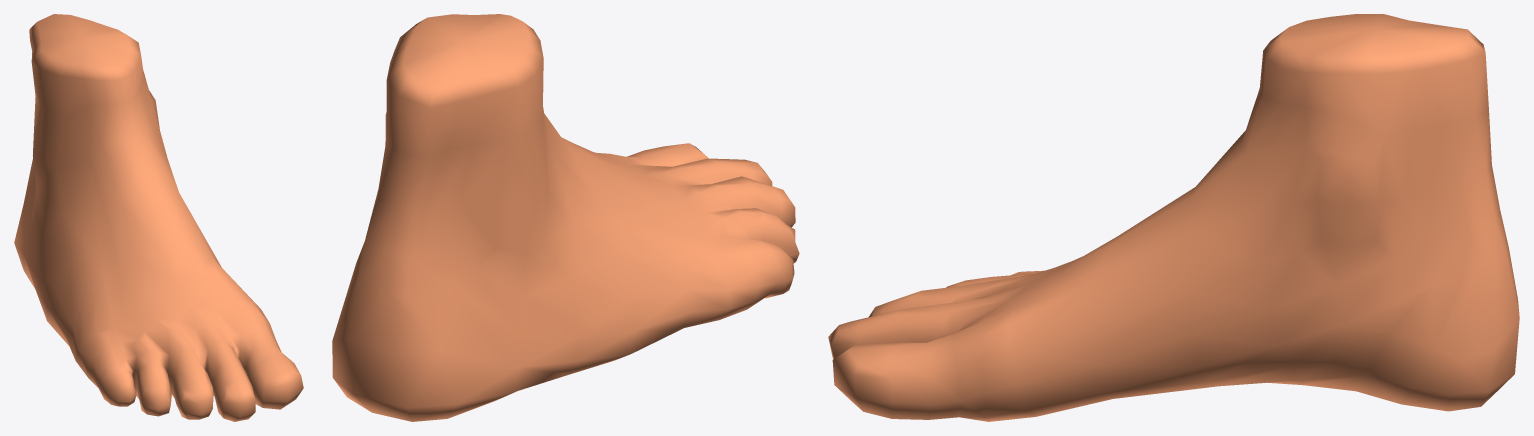
File: Foot (2).fbx
3 renders of one model, left to right at view 1: azimuth 30°, elevation 25°; view 2: azimuth 150°, elevation 25°; view 3: azimuth 270°, elevation 25°, orthographic. The views are drawn at different scales.
Parts seen in each view (by area): view 1: Foot; view 2: Foot; view 3: Foot.
Part boxes in pixels (x1=…): Foot: x1=14, y1=14, x2=303, y2=421; Foot: x1=332, y1=14, x2=799, y2=421; Foot: x1=828, y1=14, x2=1519, y2=421.
Bounding box in the file's own units: 11.08 × 16.42 × 27.74.
